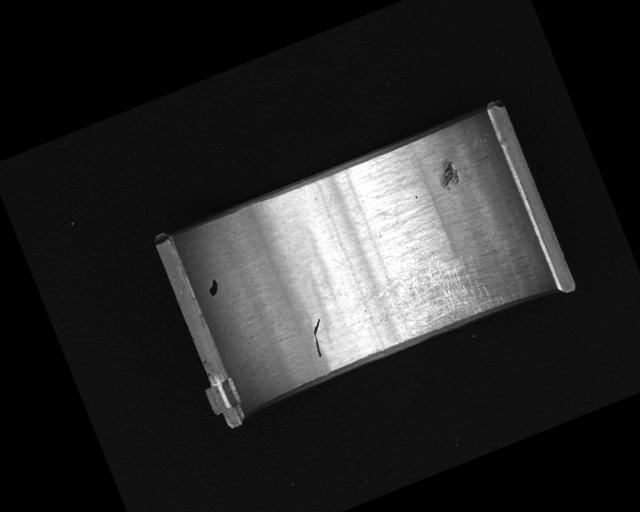blot: (204, 277, 222, 298)
bruise: (432, 157, 464, 194)
nick: (305, 318, 333, 359)
scratch: (359, 237, 505, 350)
